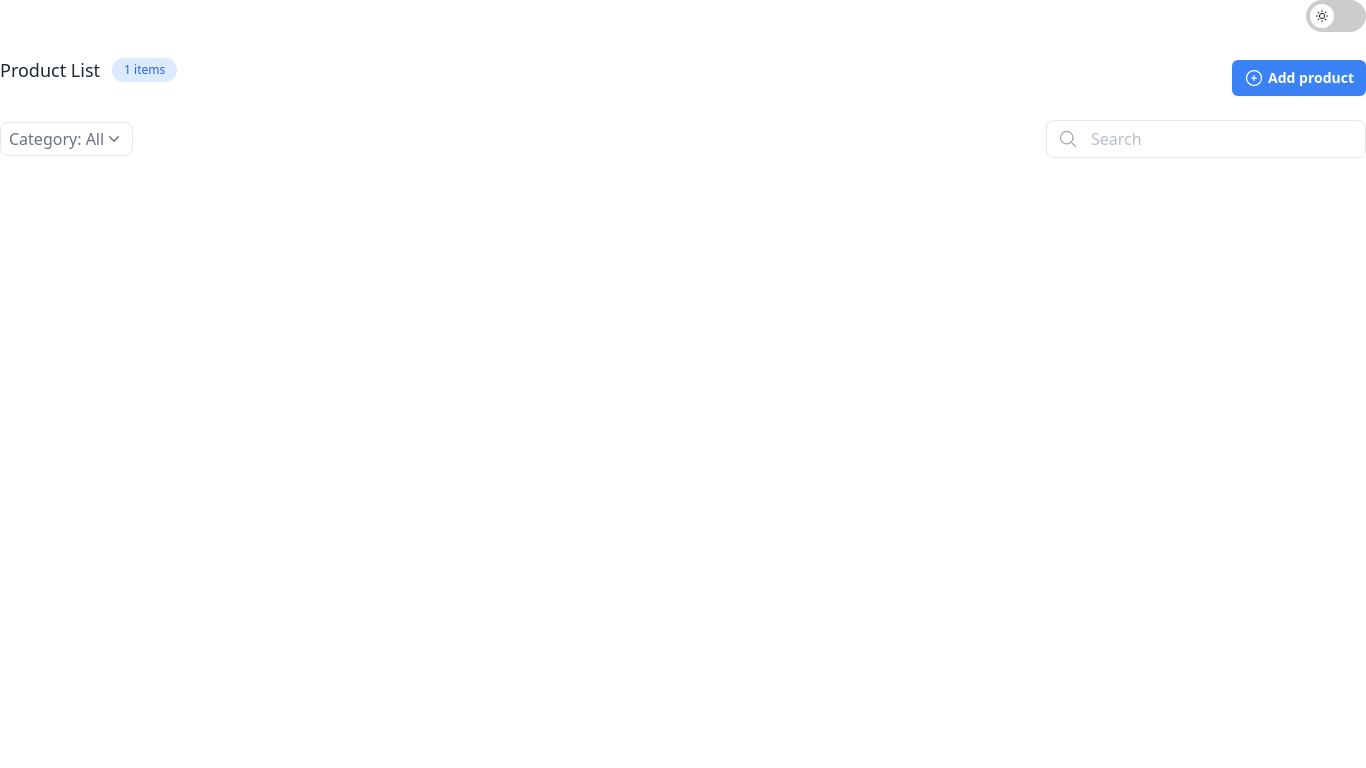
Header Testing › Behavior › add button should open add new product modal
Click the button "Add product": (1299,78) [1232,60,1365,96]
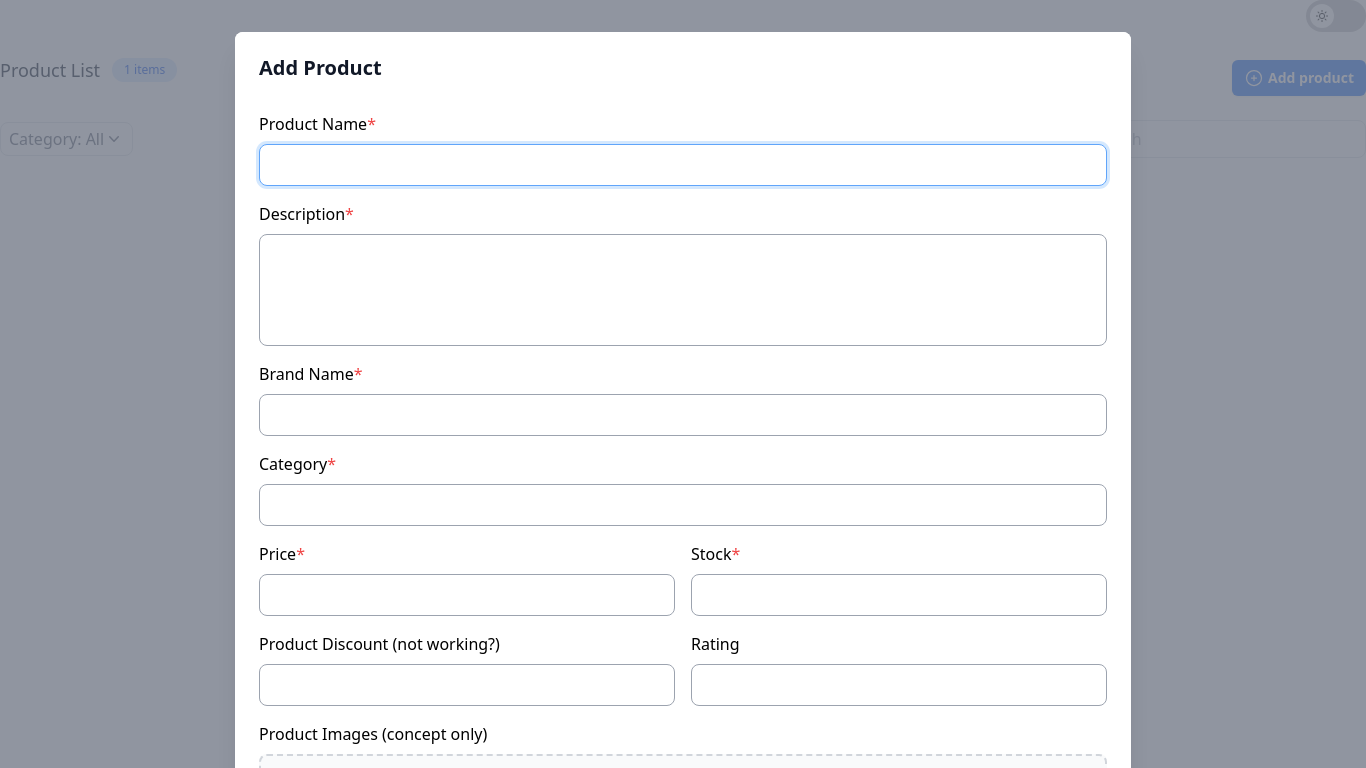
Check: the dialog named "add-product-modal" is shown
